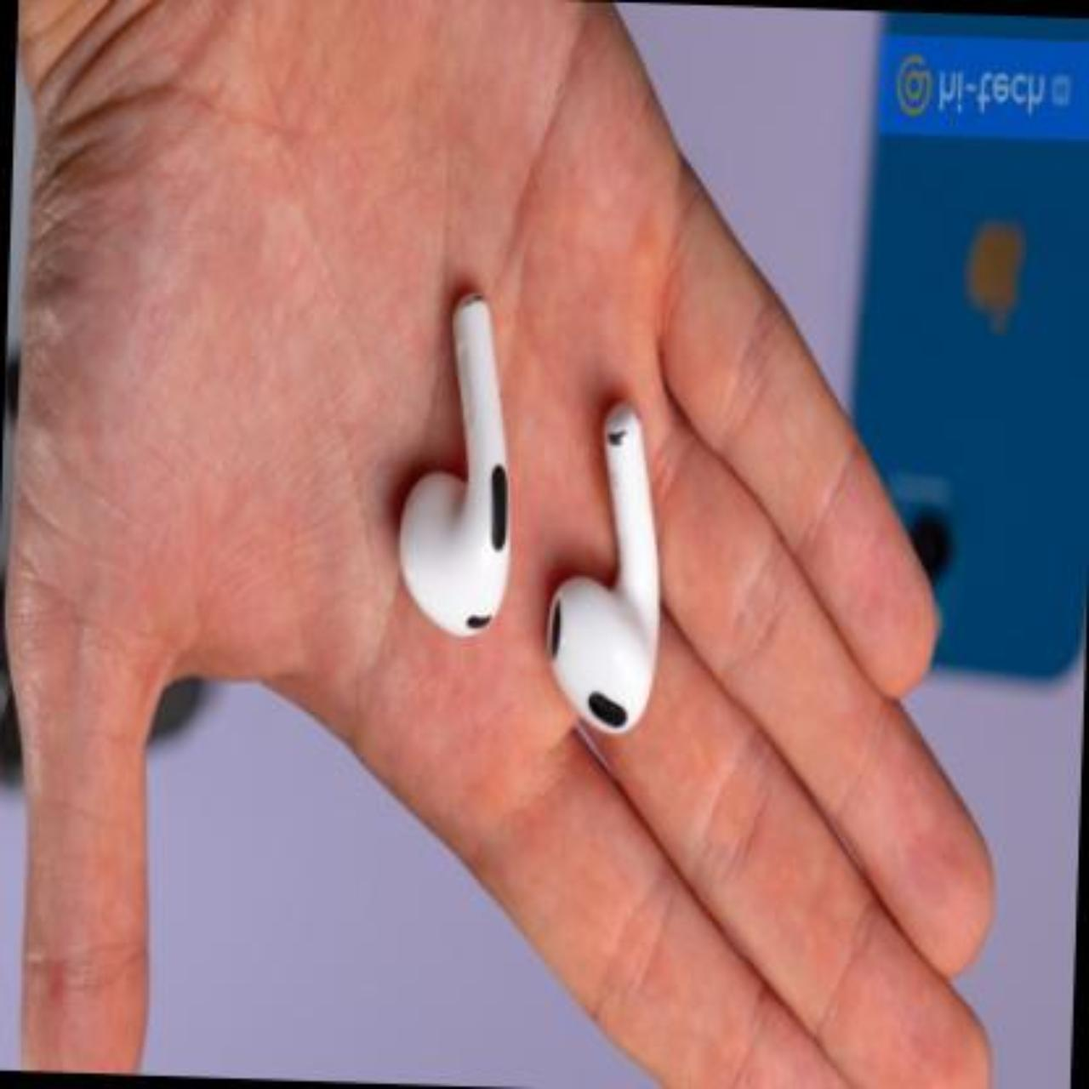Airpods_Units: (398, 283, 518, 641), (546, 387, 669, 733)
